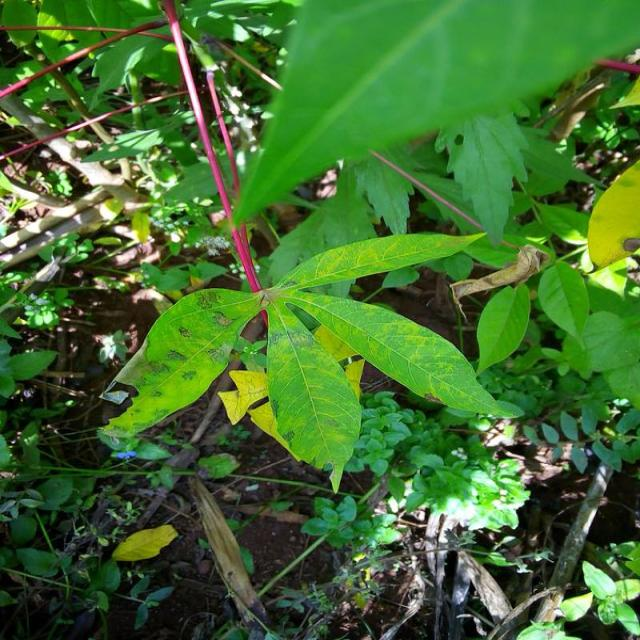cassava leaf: (98, 227, 523, 492), (231, 0, 640, 231), (97, 286, 264, 448), (266, 295, 363, 494), (587, 157, 640, 269)
